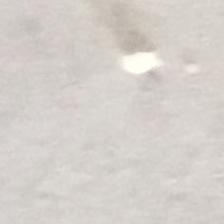Non_Crack: (27, 31, 224, 208)
